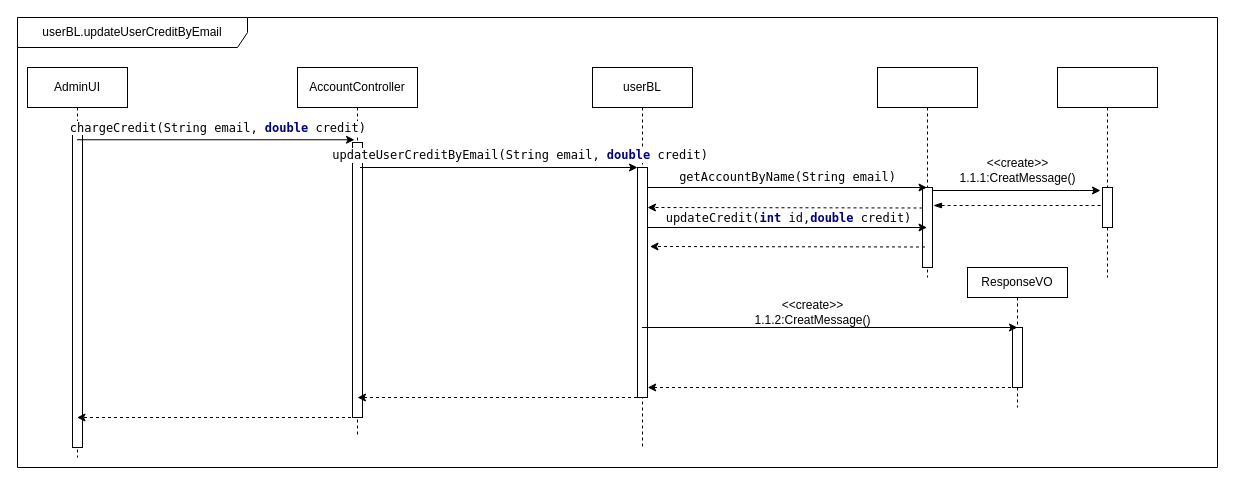
The diagram is 1235 pixels wide and 485 high, and some of its shapes have lost their labels. The shapes that lost their labels are listed below. From the top down, each one's box as (x1, y1, x2, y2) in pixels, then its label:
(876, 66, 978, 278): AccountMapper
(1056, 66, 1158, 278): userPO
